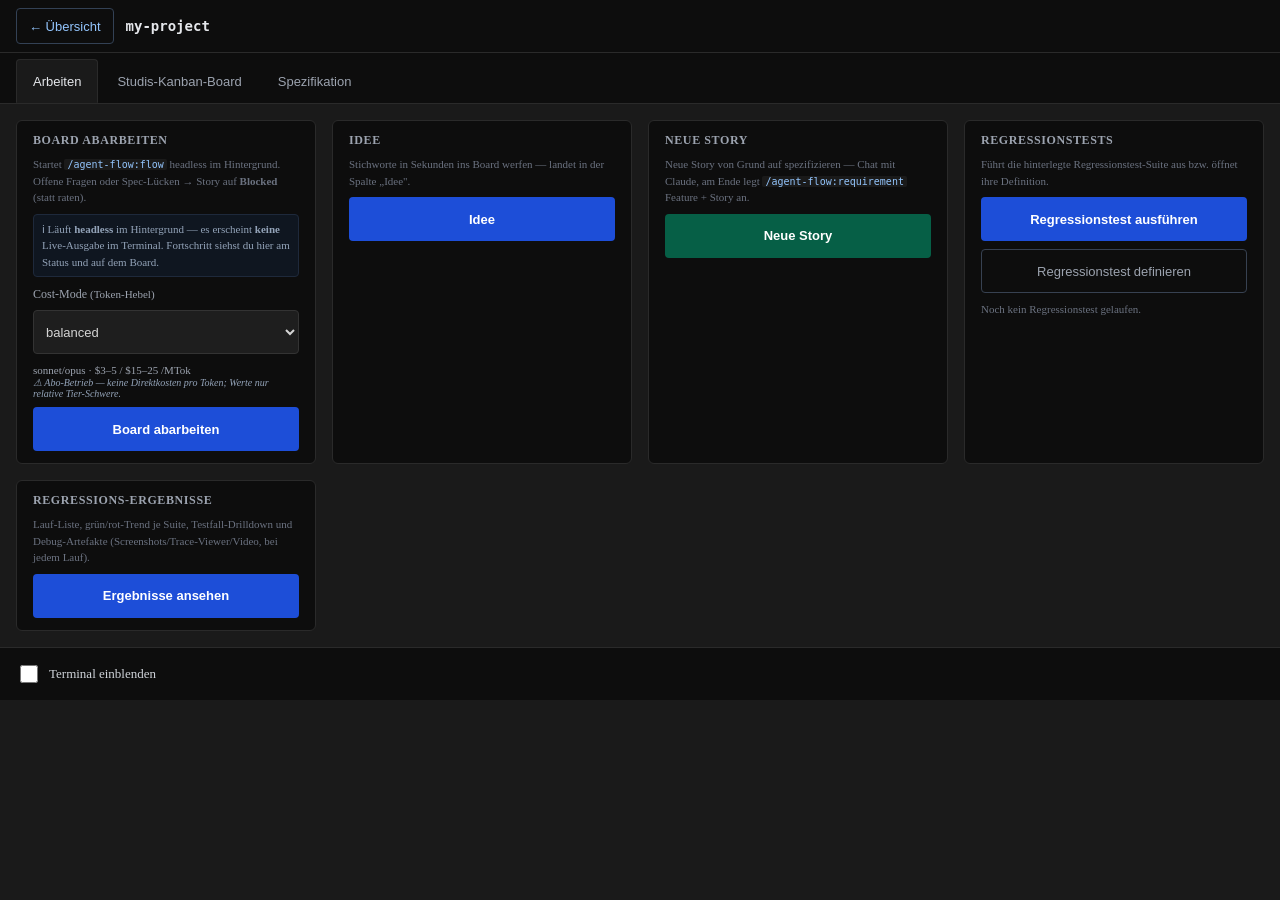
Test: headless-manual-drain AC6 — Status-Feedback + Kein-Live-Terminal-Hinweis › failed poll → inline status shows „fehlgeschlagen" as role=alert
This screenshot has width=1280, height=900.
Click the button with test id "flow-board-btn". click: (166, 429)
box: [33,407,299,451]
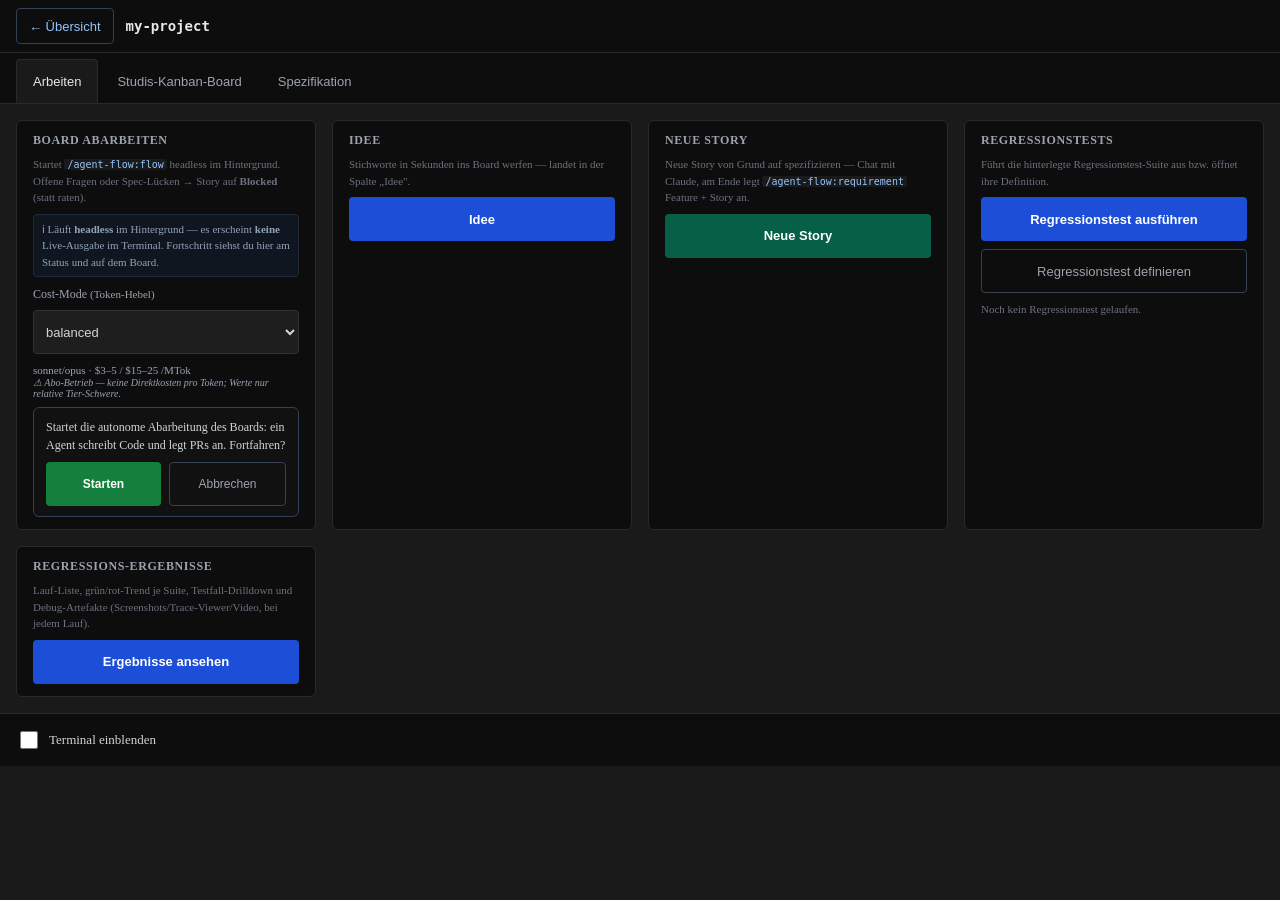
Click the button with test id "flow-confirm-yes". click: (104, 484)
box: [46,462,161,506]
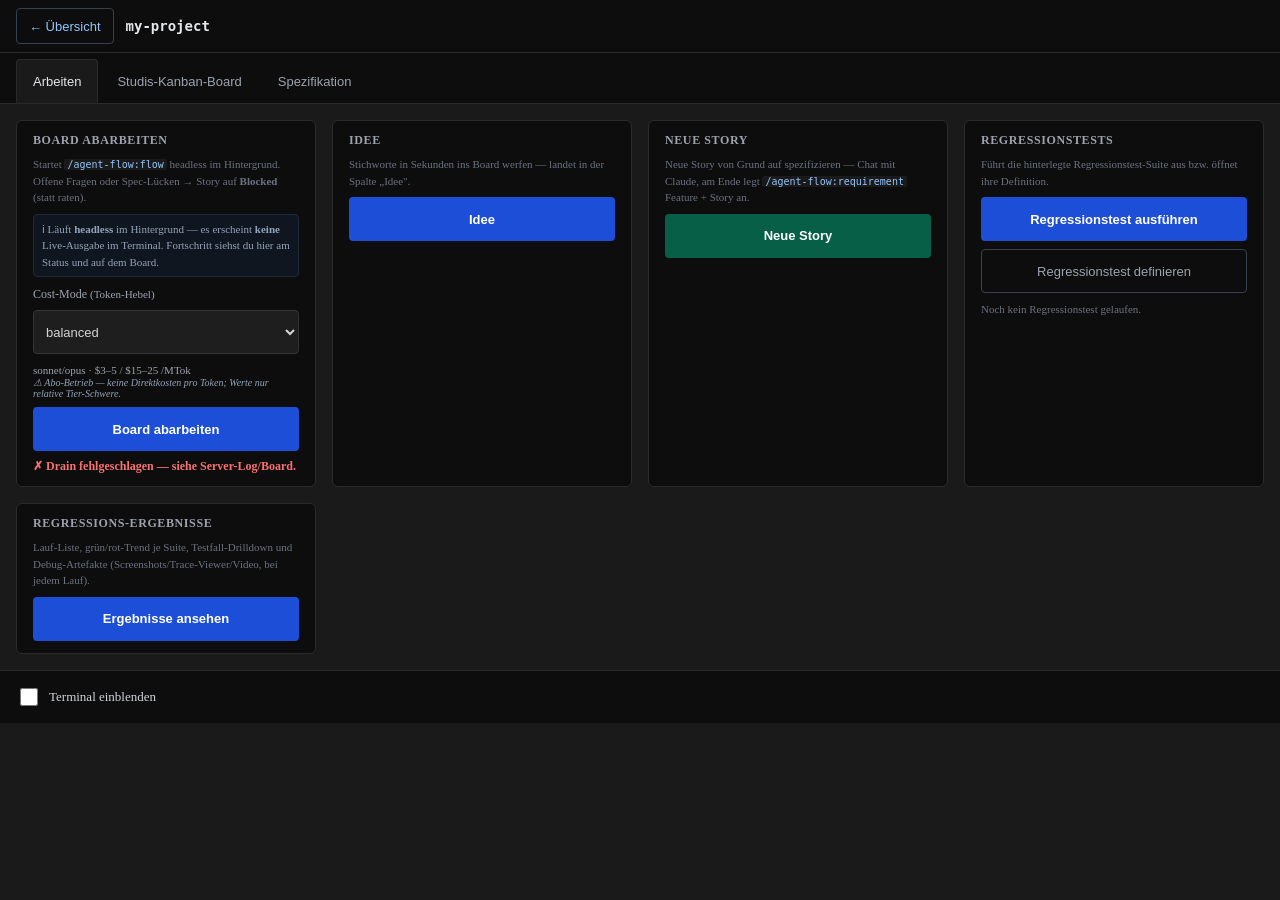
Expected: the message "✗ Drain fehlgeschlagen — siehe Server-Log/Board." is shown, [33,459,299,474]
Expected: the message with test id "drain-job-status" shows "fehlgeschlagen", [33,459,296,473]
